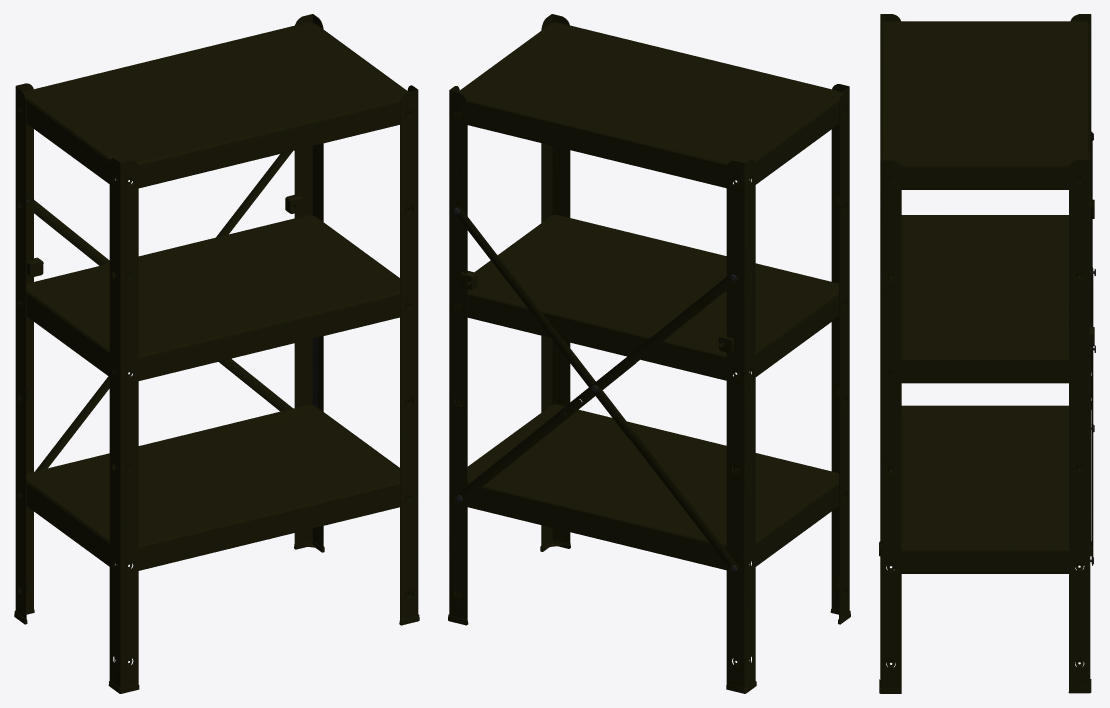
Rendered from 11 - BROR Shelving unit - black 65x40x110 cm.glb.
3 renders of one model, left to right at view 1: azimuth 30°, elevation 25°; view 2: azimuth 150°, elevation 25°; view 3: azimuth 270°, elevation 25°, orthographic.
Visible parts, largest first — view 1: Mesh_0; view 2: Mesh_0; view 3: Mesh_0.
Part boxes in pixels (<box>): Mesh_0: <box>14,14,419,693</box>; Mesh_0: <box>448,14,850,693</box>; Mesh_0: <box>879,14,1095,693</box>.
Size of the model in its own units: 0.6539 by 1.1 by 0.4069.
Materials: 1 (1 with a texture image).
